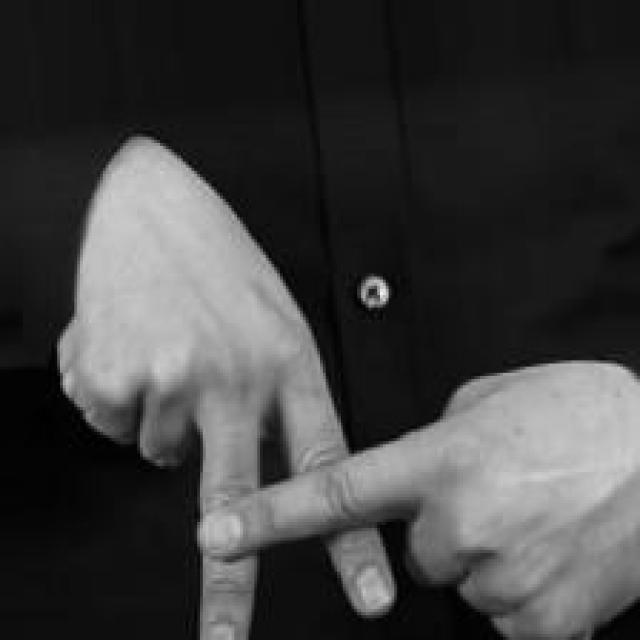A: (63, 133, 637, 640)
